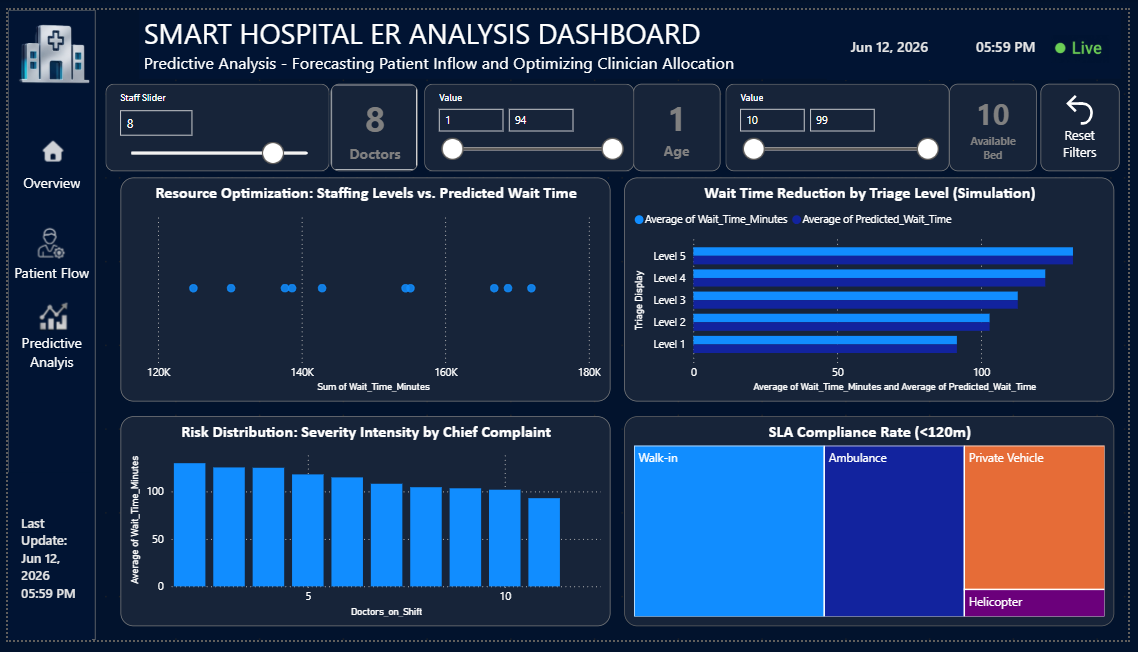

The dashboard page shown, as its layout file describes it:
{"tool":"powerbi","page":{"name":"Predictive analysis","canvas":[1280,720],"ordinal":2},"visuals":[{"type":"textbox","box":[150,0,1121.4,78.6],"z":0},{"type":"shape","box":[0,0,100,720],"z":1000},{"type":"actionButton","box":[0,320,100,100],"z":2000},{"type":"scatterChart","title":"Resource Optimization: Staffing Levels vs. Predicted Wait Time","fields":{"Category":["Smart_Hospital_ER_Analytics_for_PBI.Doctors_on_Shift"],"X":["Sum(Smart_Hospital_ER_Analytics_for_PBI.Wait_Time_Minutes)"]},"box":[128,192,560,256],"z":3000},{"type":"actionButton","box":[0,224,100,100],"z":4000},{"type":"actionButton","box":[0,121.7,100,100],"z":5000},{"type":"image","box":[0,0,100,100],"z":6000},{"type":"cardVisual","fields":{"Data":["Smart_Hospital_ER_Analytics_for_PBI.Last Update","Smart_Hospital_ER_Analytics_for_PBI.Last Update yr"]},"box":[936,0,276,80],"z":7000},{"type":"shape","box":[0,512,96,48],"z":8000},{"type":"cardVisual","fields":{"Data":["Smart_Hospital_ER_Analytics_for_PBI.Last Refresh Display"]},"box":[0,528,96,192],"z":9000},{"type":"image","box":[1178,28,94,32],"z":10000},{"type":"clusteredBarChart","title":"Wait Time Reduction by Triage Level (Simulation)","fields":{"Y":["Avg(Smart_Hospital_ER_Analytics_for_PBI.Wait_Time_Minutes)","Avg(Smart_Hospital_ER_Analytics_for_PBI.Predicted_Wait_Time)"],"Category":["Smart_Hospital_ER_Analytics_for_PBI.Triage Display"]},"box":[704,192,560,256],"z":11000},{"type":"treemap","title":"SLA Compliance Rate (<120m)","fields":{"Group":["Smart_Hospital_ER_Analytics_for_PBI.Arrival_Mode"],"Values":["CountNonNull(Smart_Hospital_ER_Analytics_for_PBI.Patient_ID)"]},"box":[704,464,560,240],"z":12000},{"type":"clusteredColumnChart","title":"Risk Distribution: Severity Intensity by Chief Complaint","fields":{"Category":["Smart_Hospital_ER_Analytics_for_PBI.Doctors_on_Shift"],"Y":["Avg(Smart_Hospital_ER_Analytics_for_PBI.Wait_Time_Minutes)"]},"box":[128,464,560,240],"z":13000},{"type":"cardVisual","title":"Doctors","fields":{"Data":["Bed Slider.Selected Bed"]},"box":[1075,85,100.4,100.4],"z":14000},{"type":"slicer","fields":{"Values":["Bed Slider.Value"]},"box":[820,85,256,100],"z":15000},{"type":"cardVisual","title":"Doctors","fields":{"Data":["Age Slider.Selected Age"]},"box":[714,85,100,100],"z":16000},{"type":"cardVisual","title":"Doctors","fields":{"Data":["Smart_Hospital_ER_Analytics_for_PBI.Doctors"]},"box":[368,85,100,100],"z":17000},{"type":"slicer","fields":{"Values":["Staff Slider.Staff Slider"]},"box":[112,85,256,100],"z":18000},{"type":"slicer","fields":{"Values":["Age Slider.Value"]},"box":[475,85,240,100],"z":19000},{"type":"actionButton","box":[1180,85,90,100],"z":20000}]}

Visuals, with their boxes in screenshot pixels (x1, y1, x2, y2), scaled from the page's 1280x720 canvas onto the 1138x652 screenshot:
textbox: 133 0 1130 71
shape: 0 0 89 651
actionButton: 0 290 89 380
"Resource Optimization: Staffing Levels vs. Predicted Wait Time" scatterChart: 114 174 612 406
actionButton: 0 203 89 293
actionButton: 0 110 89 201
image: 0 0 89 91
cardVisual - Smart_Hospital_ER_Analytics_for_PBI.Last Update x Smart_Hospital_ER_Analytics_for_PBI.Last Update yr: 832 0 1078 72
shape: 0 464 85 507
cardVisual - Smart_Hospital_ER_Analytics_for_PBI.Last Refresh Display: 0 478 85 651
image: 1047 25 1131 54
"Wait Time Reduction by Triage Level (Simulation)" clusteredBarChart: 626 174 1124 406
"SLA Compliance Rate (<120m)" treemap: 626 420 1124 638
"Risk Distribution: Severity Intensity by Chief Complaint" clusteredColumnChart: 114 420 612 638
"Doctors" cardVisual: 956 77 1045 168
slicer - Bed Slider.Value: 729 77 957 168
"Doctors" cardVisual: 635 77 724 168
"Doctors" cardVisual: 327 77 416 168
slicer - Staff Slider.Staff Slider: 100 77 327 168
slicer - Age Slider.Value: 422 77 636 168
actionButton: 1049 77 1129 168
